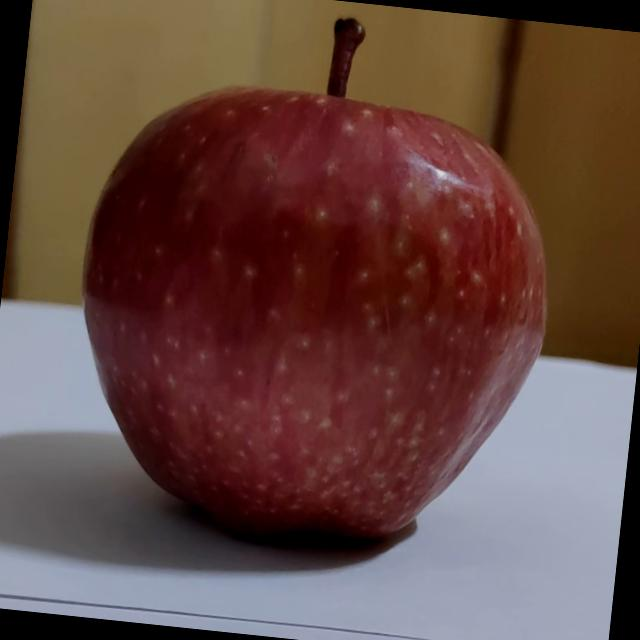apple: (54, 0, 581, 570)
